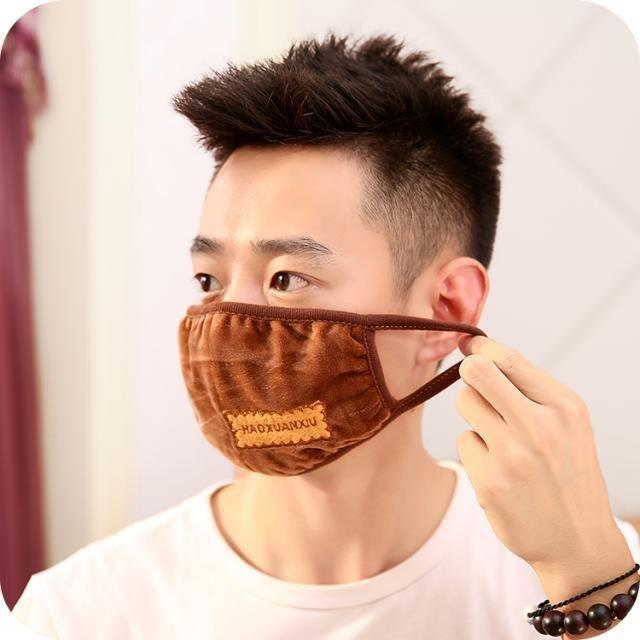OK: (170, 214, 409, 468)
